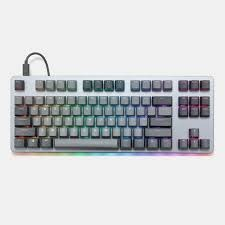keyboard: (8, 73, 214, 156)
